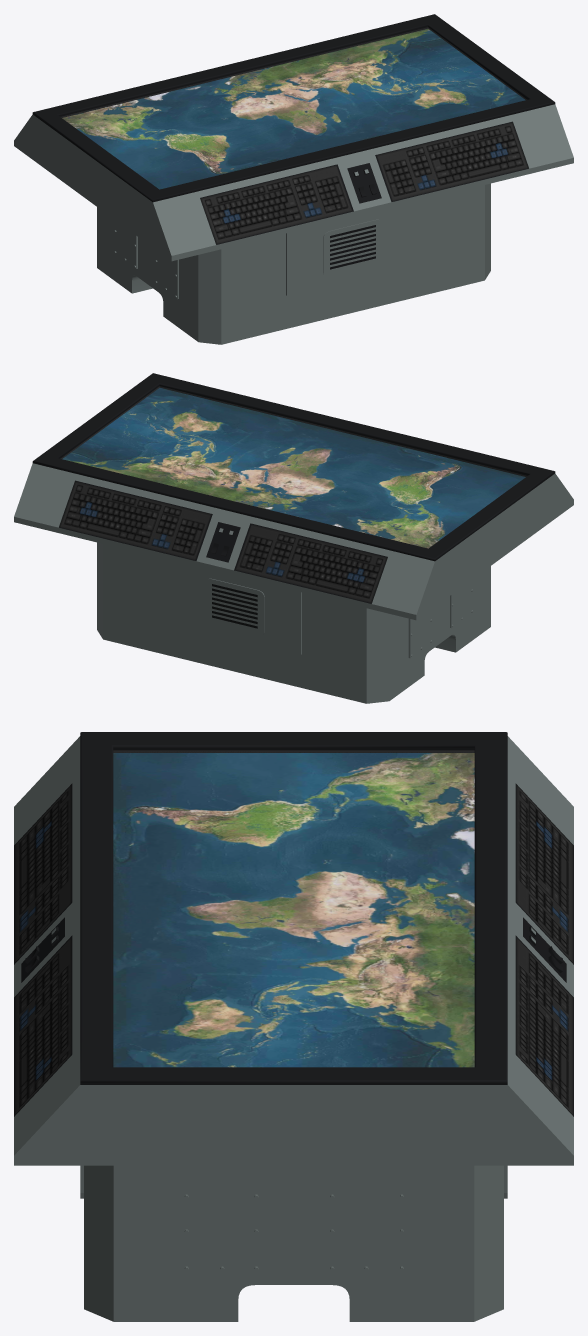
Rendered from 电子沙盘.FBX.
3 views of the same model, one above another, from view 1: azimuth 30°, elevation 25°; view 2: azimuth 150°, elevation 25°; view 3: azimuth 270°, elevation 25° (orthographic). The views are drawn at different scales.
Visible parts, largest first — view 1: 电子沙盘04, 电子沙盘01, 电子沙盘02; view 2: 电子沙盘04, 电子沙盘01, 电子沙盘02; view 3: 电子沙盘04, 电子沙盘01.
Boxes of the visible parts, x1,y1,x2,y2 form: 电子沙盘04: (14, 14, 573, 344); 电子沙盘01: (62, 29, 525, 189); 电子沙盘02: (323, 219, 382, 276); 电子沙盘04: (14, 373, 573, 703); 电子沙盘01: (62, 388, 525, 548); 电子沙盘02: (205, 578, 264, 635); 电子沙盘04: (14, 732, 573, 1321); 电子沙盘01: (113, 753, 474, 1067).
Bounding box in the file's own units: 2.75 × 1.06 × 1.87.
Materials: 3 (2 with a texture image).
